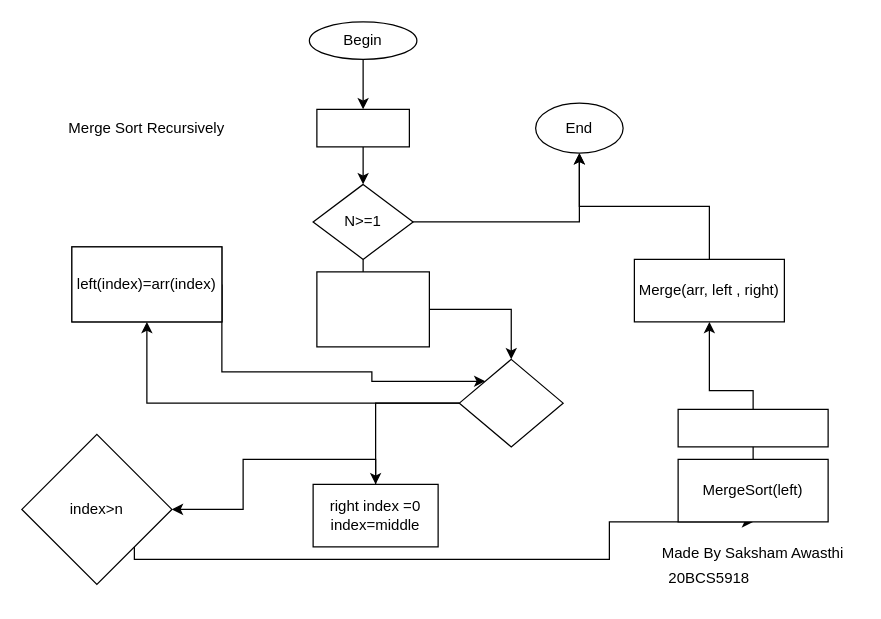
Some shapes in this 881 by 619 pixel diagram are drawn without their labels. The centre of each missing label's shape, as x and y in pixels:
index>middle: point (510, 402)
MergeSort(right): point (752, 427)
middle =n/2 left = middle+1 index=0: point (372, 309)
N=arr.length(): point (362, 127)
